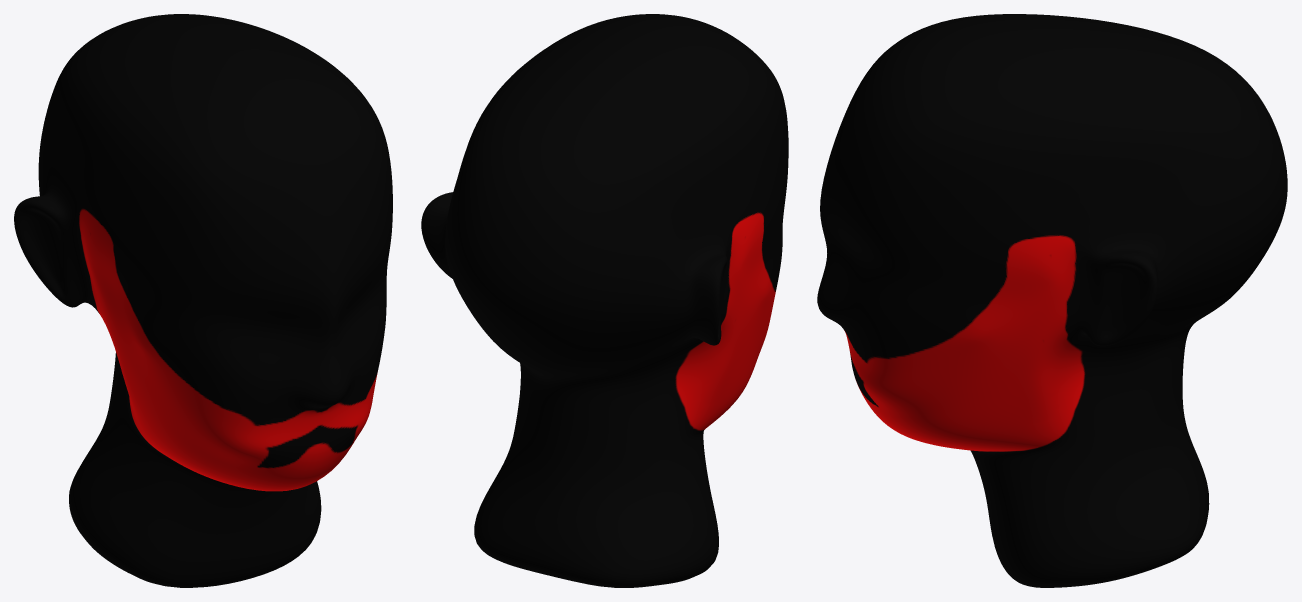
File: headdy2.obj
3 renders of one model, left to right at view 1: azimuth 30°, elevation 25°; view 2: azimuth 150°, elevation 25°; view 3: azimuth 270°, elevation 25°, orthographic. The views are drawn at different scales.
Parts seen in each view (by area): view 1: Head; view 2: Head; view 3: Head.
Boxes of the visible parts, left/top/right/bottom form: Head: left=14, top=14, right=392, bottom=587; Head: left=421, top=14, right=788, bottom=587; Head: left=817, top=14, right=1287, bottom=587.
Size of the model in its own units: 0.5716 by 0.9361 by 0.7559.
